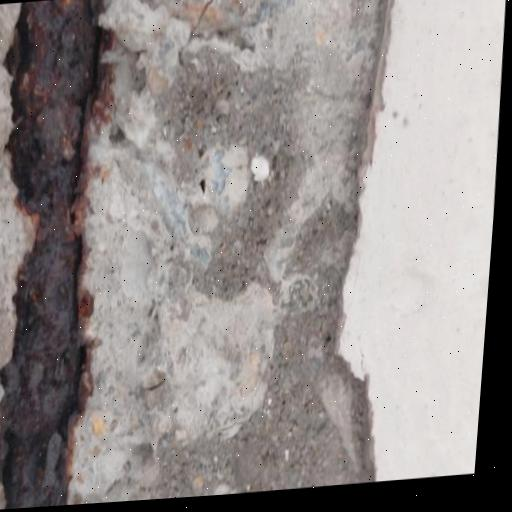exposed_rebar: (0, 0, 100, 509)
